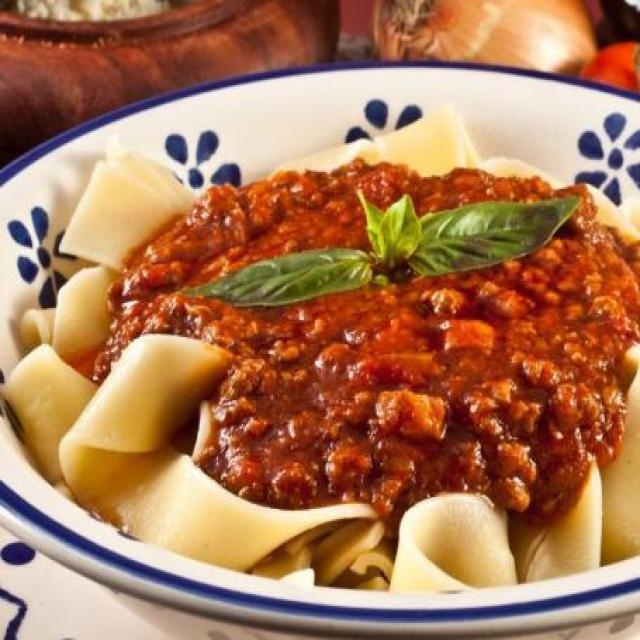Pasta al ragu: (48, 116, 632, 569)
